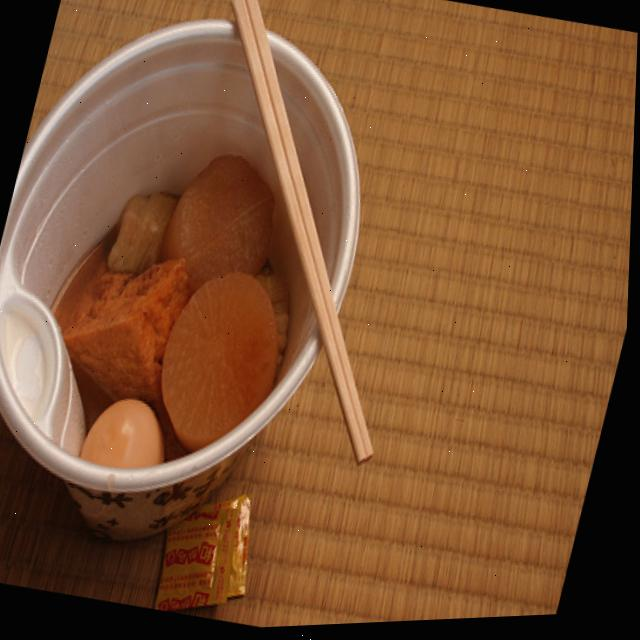汤锅炖物: (36, 119, 331, 499)
